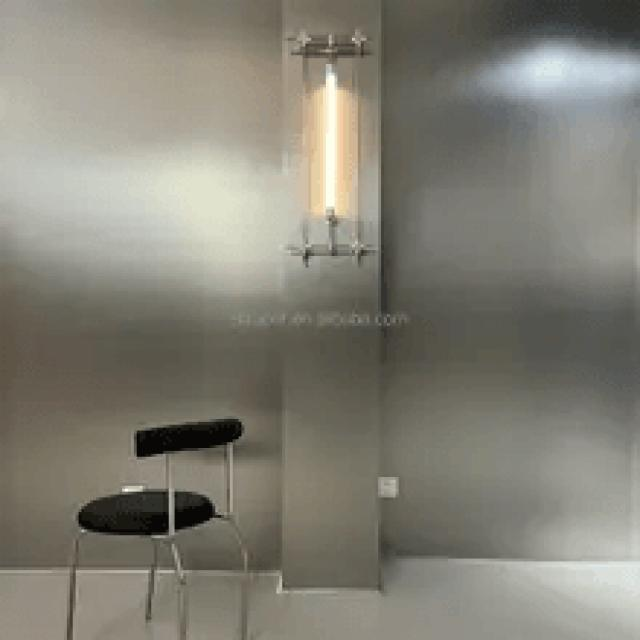chair: (67, 418, 249, 639)
